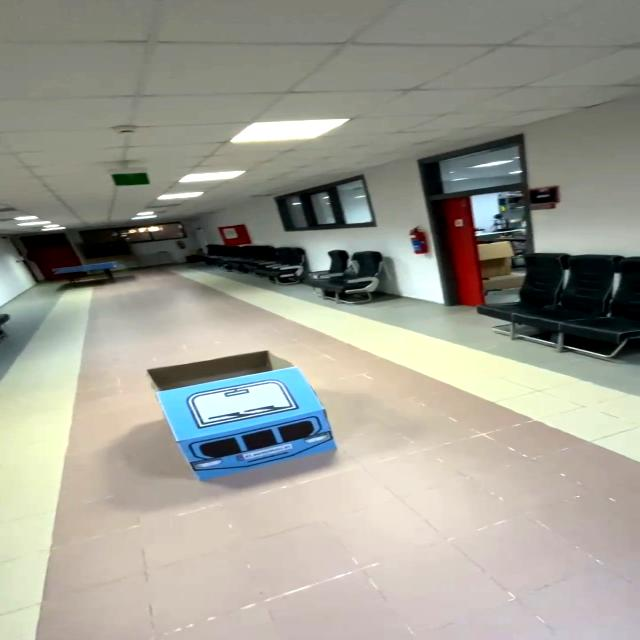blue_car: (114, 341, 364, 500)
